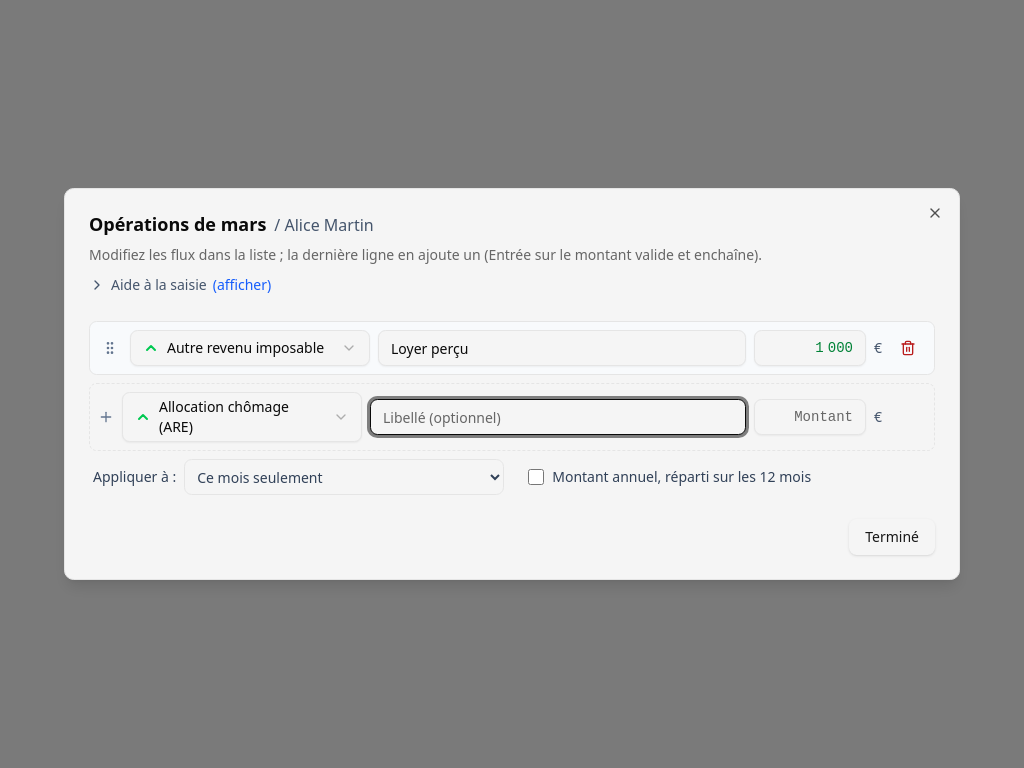
Test: MonthlyFlowsModal : lignes existantes › restaure l'ancien montant et retire le message avec Échap
Step 1. Replace the text in the field named "Montant" with "mille" → (810, 348), box [754,330,866,366]
Then press Enter
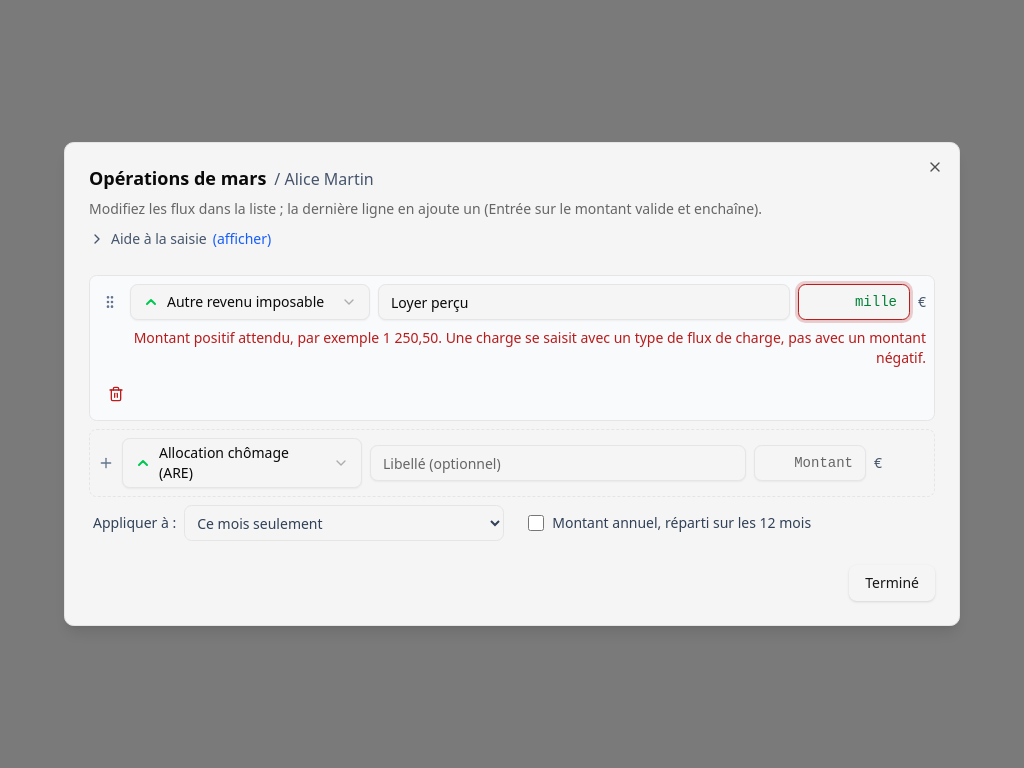
Step 2. Press Escape
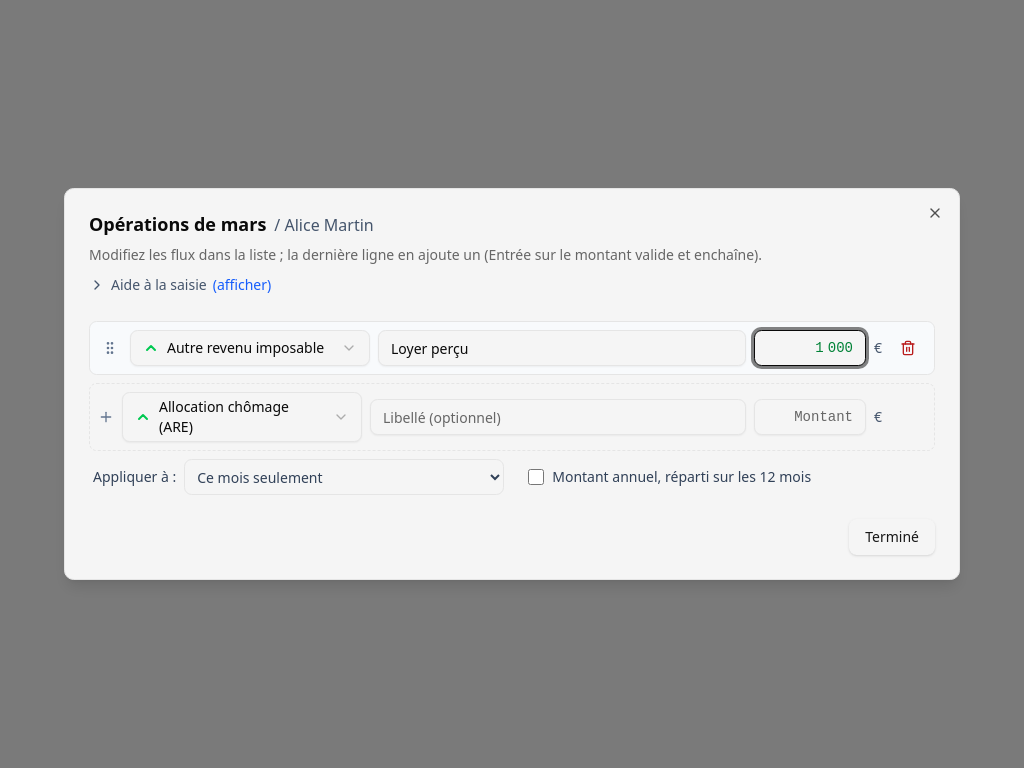
Expected: the message is gone
Expected: the field named "Montant" holds "1 000", [754,330,866,366]
